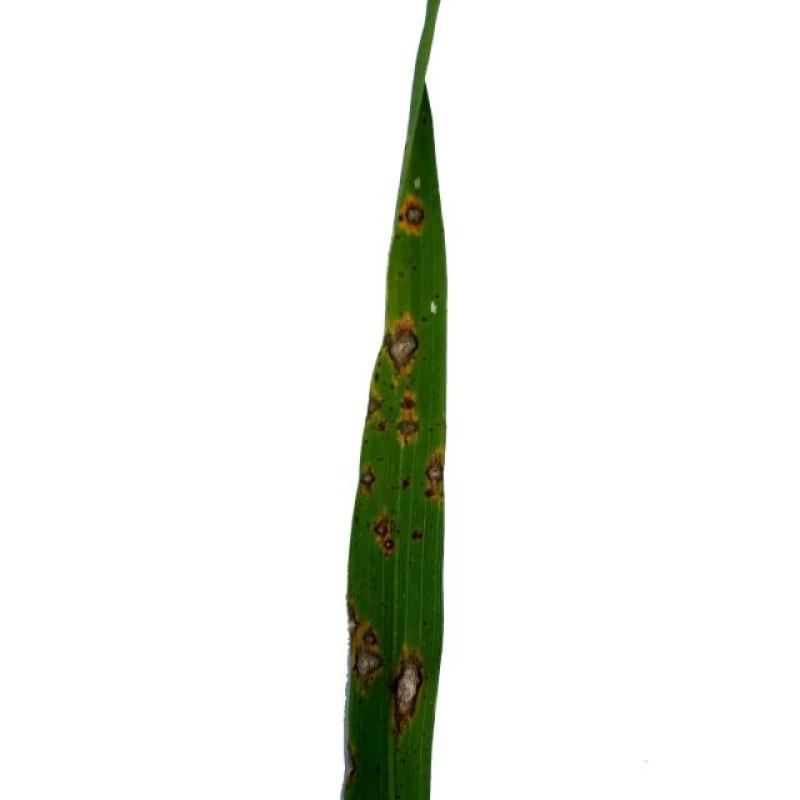Leaf_Blast: (385, 641, 426, 734), (350, 598, 380, 686), (388, 316, 422, 378), (370, 514, 402, 572), (396, 189, 430, 239), (400, 390, 421, 449), (368, 384, 388, 441), (424, 441, 442, 501)
